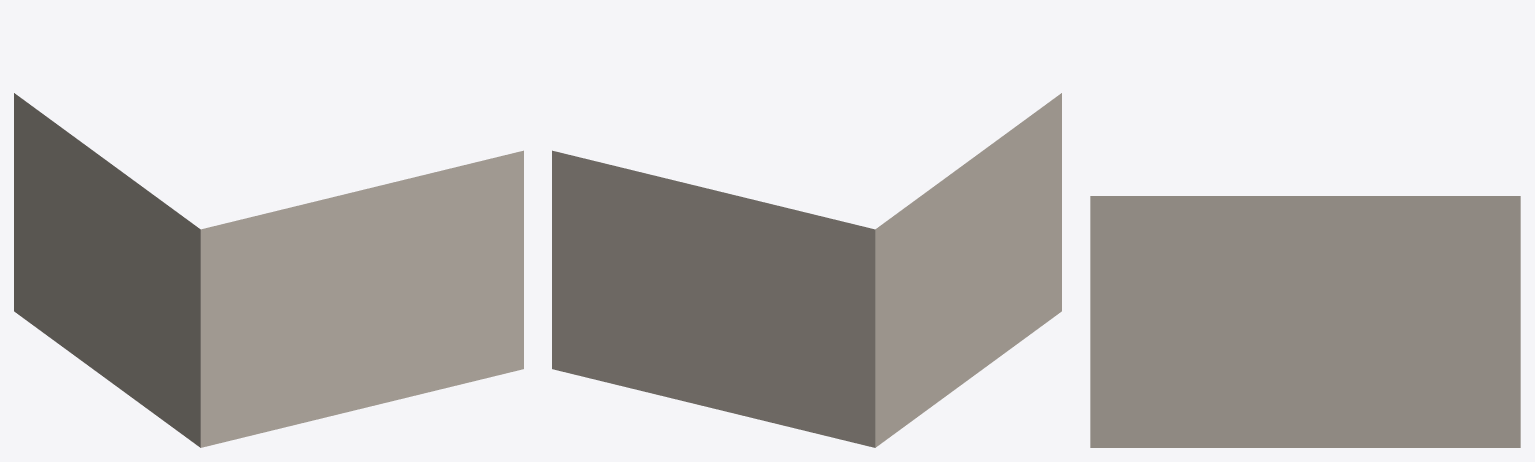
Rendered from ottoman.glb.
3 renders of one model, left to right at view 1: azimuth 30°, elevation 25°; view 2: azimuth 150°, elevation 25°; view 3: azimuth 270°, elevation 25°, orthographic. The views are drawn at different scales.
Size of the model in its own units: 0.65 by 0.448 by 0.65.
